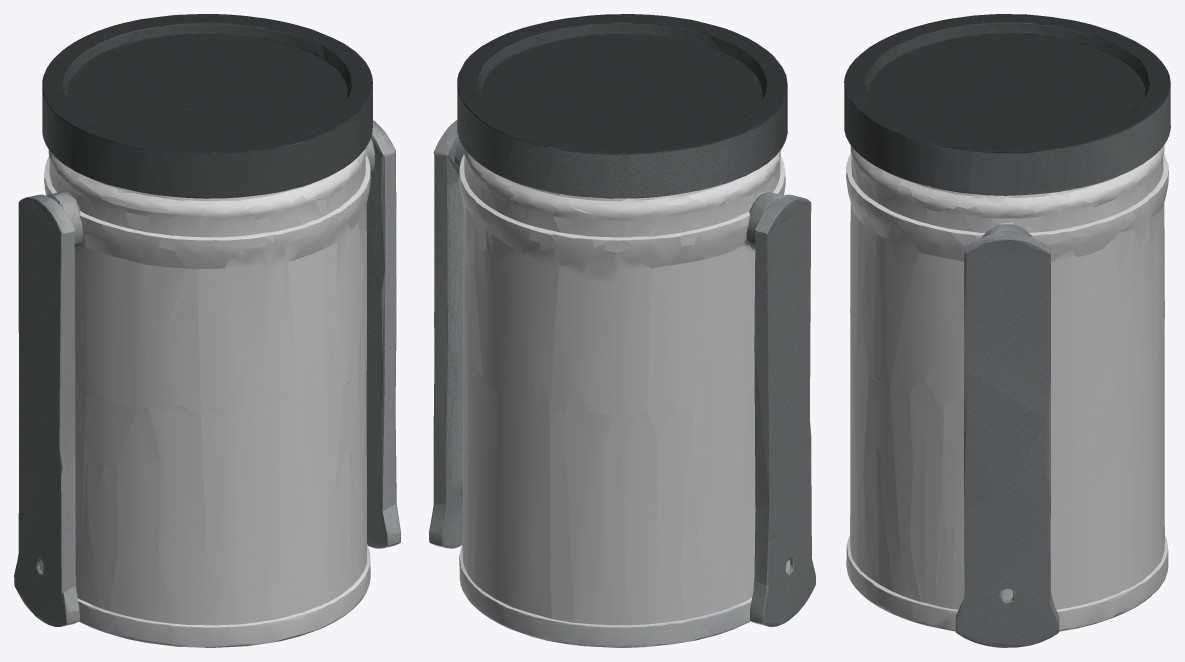
File: waste_bin_plain.glb
3 views of the same model, side by side, from view 1: azimuth 30°, elevation 25°; view 2: azimuth 150°, elevation 25°; view 3: azimuth 270°, elevation 25° (orthographic). The views are drawn at different scales.
Bounding box in the file's own units: 1.34 × 1.9 × 1.15.
1 material, 1 textured.
